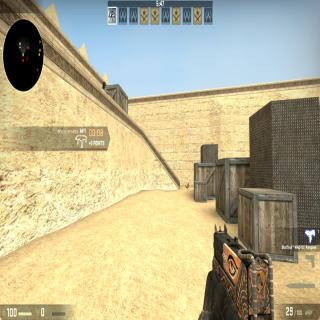T-Head: (101, 80, 107, 90)
